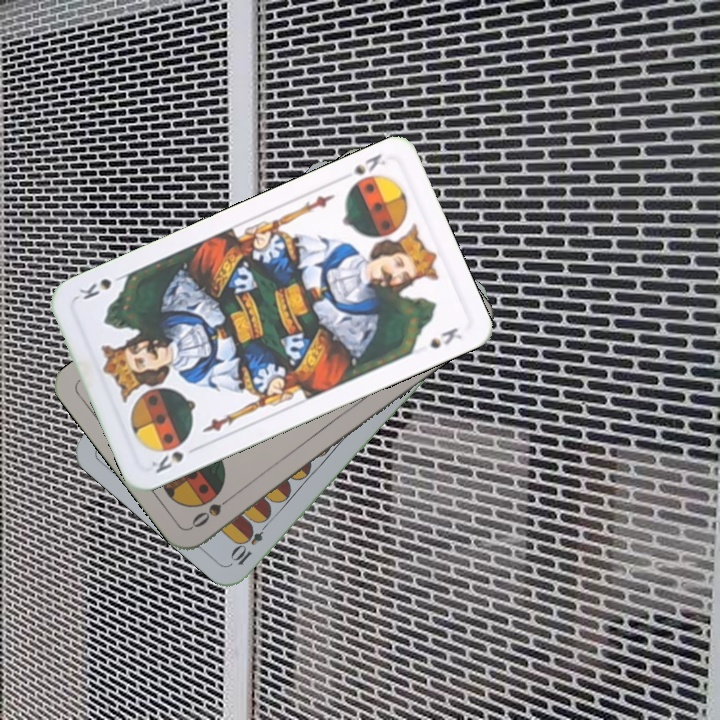E10: (228, 516, 273, 568)
SK: (146, 436, 192, 476), (349, 150, 389, 178)
SO: (187, 489, 238, 531)
